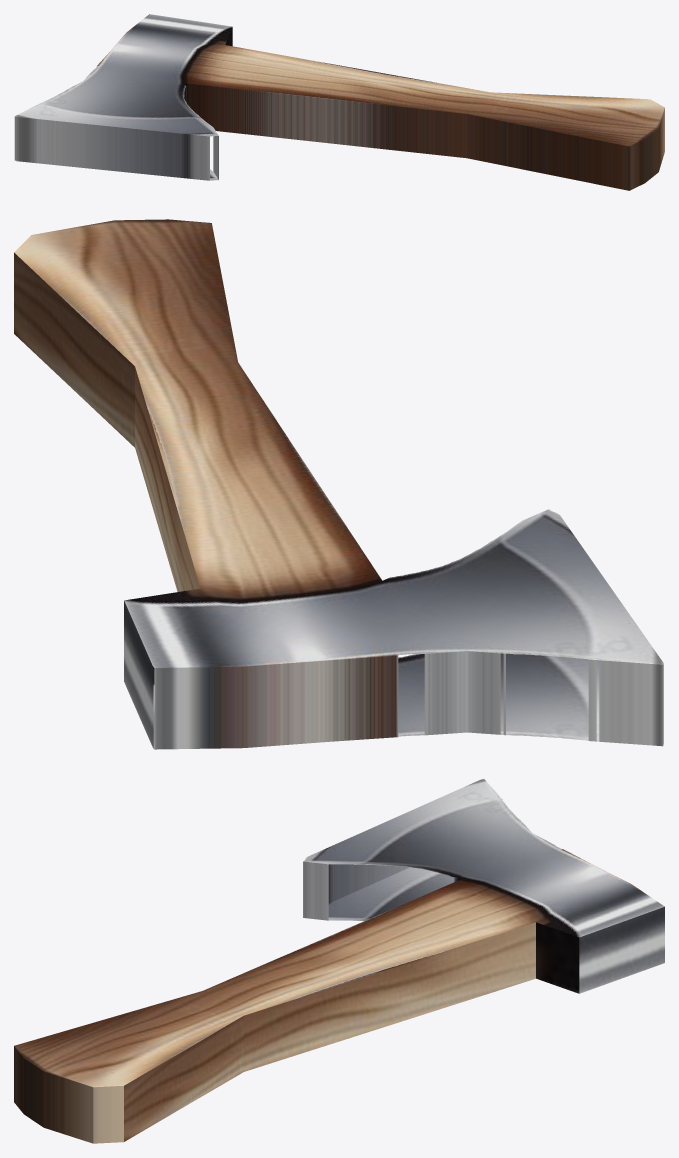
The picture shows the model from 3 angles, top to bottom: view 1: azimuth 30°, elevation 25°; view 2: azimuth 150°, elevation 25°; view 3: azimuth 270°, elevation 25°; orthographic projection. The views are drawn at different scales.
Parts seen in each view (by area): view 1: 平面; view 2: 平面; view 3: 平面.
Part boxes in pixels (<box>): 平面: <box>14,14,664,190</box>; 平面: <box>14,219,663,749</box>; 平面: <box>14,779,664,1143</box>.
Bounding box in the file's own units: 3.53 × 0.3 × 3.14.
1 material, 1 textured.
